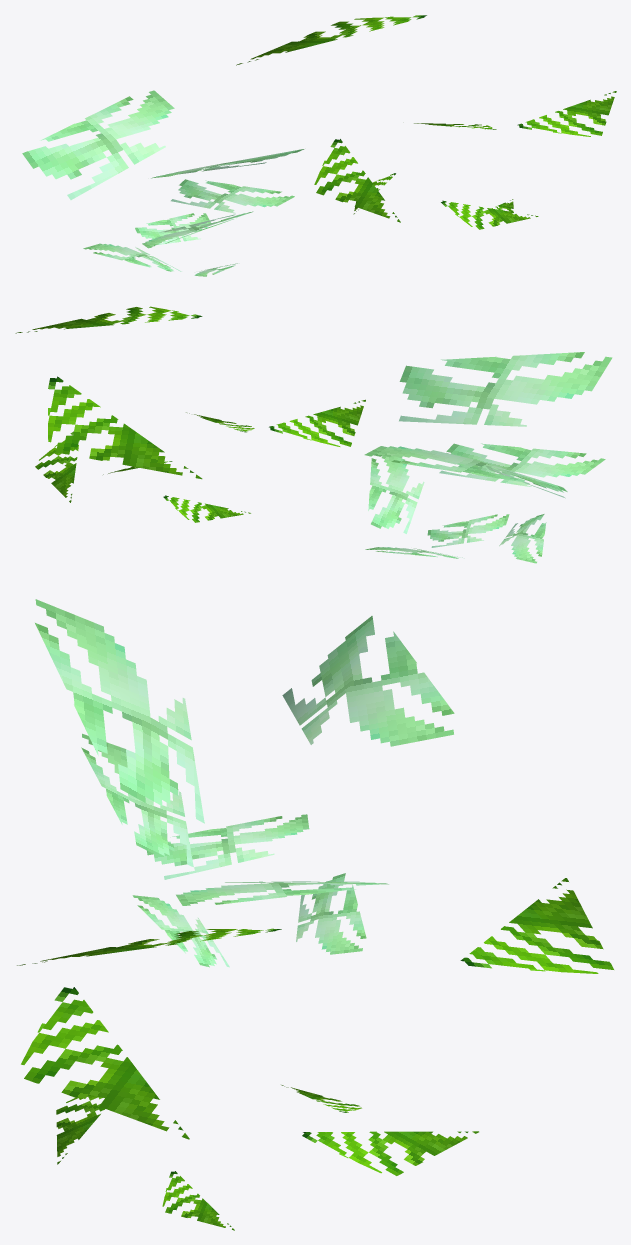
File: monstera-a.lod2.glb
The picture shows the model from 3 angles, top to bottom: view 1: azimuth 30°, elevation 25°; view 2: azimuth 150°, elevation 25°; view 3: azimuth 270°, elevation 25°; orthographic projection. The views are drawn at different scales.
Visible parts, largest first — view 1: Object_4; view 2: Object_4; view 3: Object_4.
Part boxes in pixels (x1,y1,x2,y2): Object_4: [22, 15, 616, 276]; Object_4: [15, 306, 612, 563]; Object_4: [17, 599, 613, 1230].
Size of the model in its own units: 3.18 by 0.9119 by 1.71.
Materials: 1 (1 with a texture image).
